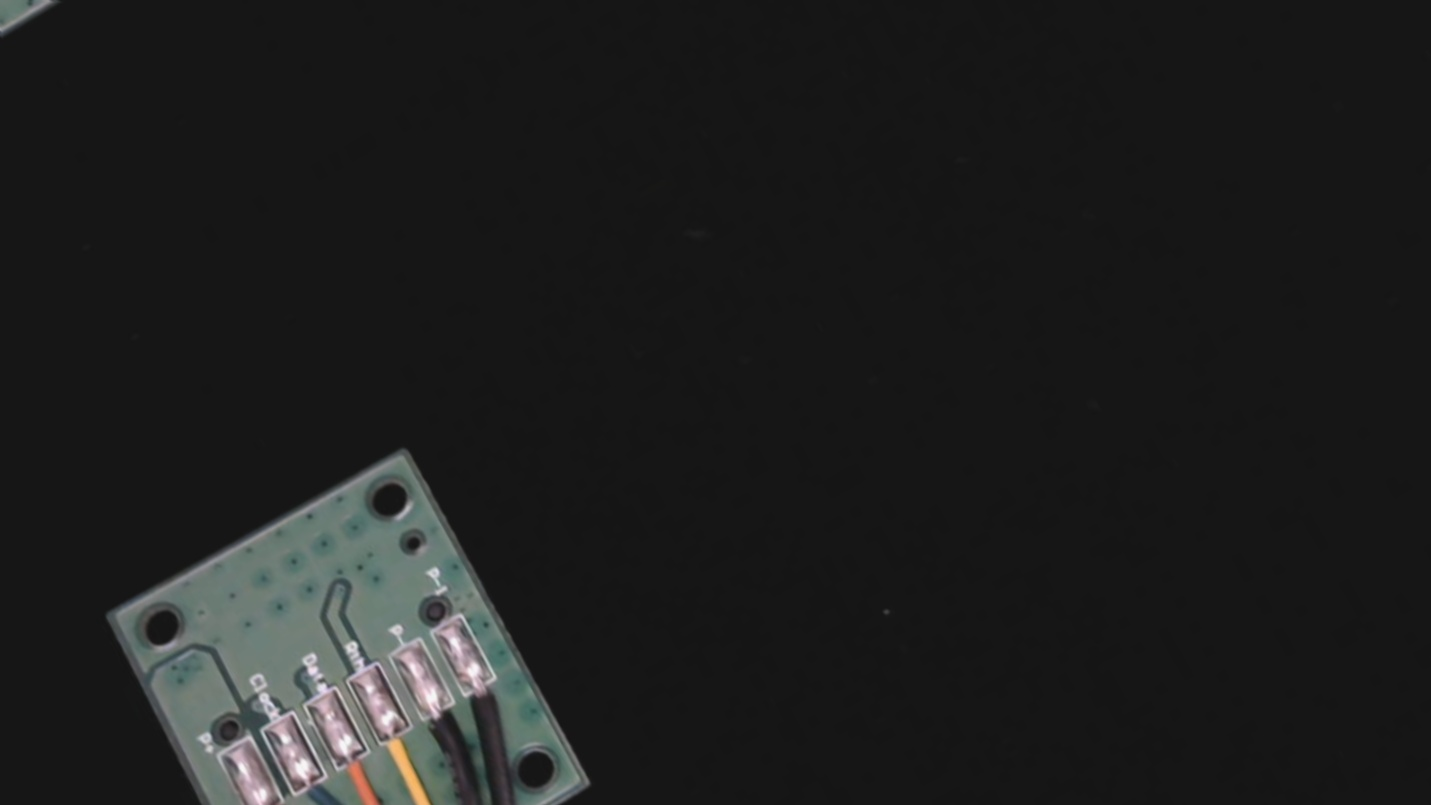Black: (407, 684, 483, 769)
Black1: (448, 655, 530, 746)
Green: (278, 753, 363, 805)
Orange: (320, 730, 405, 805)
Red: (236, 781, 318, 805)
Yellow: (362, 709, 450, 805)
